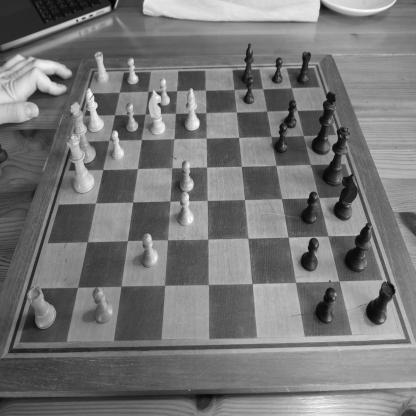black-bishop: (342, 220, 374, 276), (238, 42, 258, 83)
black-king: (310, 90, 338, 156)
black-knight: (332, 173, 359, 222)
black-pawn: (315, 286, 338, 328), (300, 233, 320, 275), (299, 189, 321, 227), (274, 124, 290, 155), (270, 56, 286, 85), (284, 98, 298, 131), (243, 77, 256, 107)
black-queen: (320, 126, 352, 187)
black-rook: (366, 280, 396, 329), (295, 50, 312, 86)
white-bishop: (180, 84, 204, 134), (82, 87, 105, 131)
white-king: (70, 101, 96, 165)
white-knight: (145, 90, 167, 137)
white-pawn: (90, 286, 115, 326), (138, 230, 158, 271), (174, 190, 196, 227), (176, 160, 196, 194), (108, 130, 126, 164), (122, 101, 140, 135), (125, 53, 139, 86), (158, 78, 171, 107)
white-queen: (64, 130, 98, 195)
white-rook: (26, 283, 58, 330), (92, 50, 110, 85)
